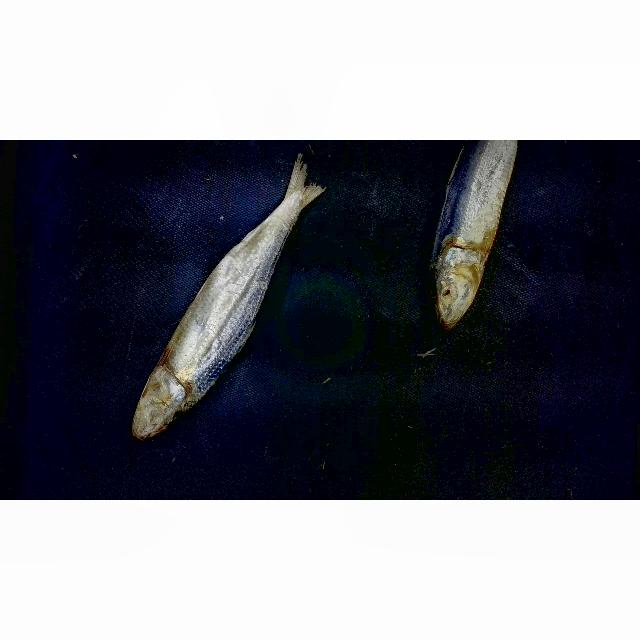Grade_A_Body: (157, 268, 275, 395)
Grade_A_Head: (421, 142, 520, 248), (122, 363, 195, 448), (424, 257, 486, 330)
Grade_A_Tail: (208, 156, 337, 264)
